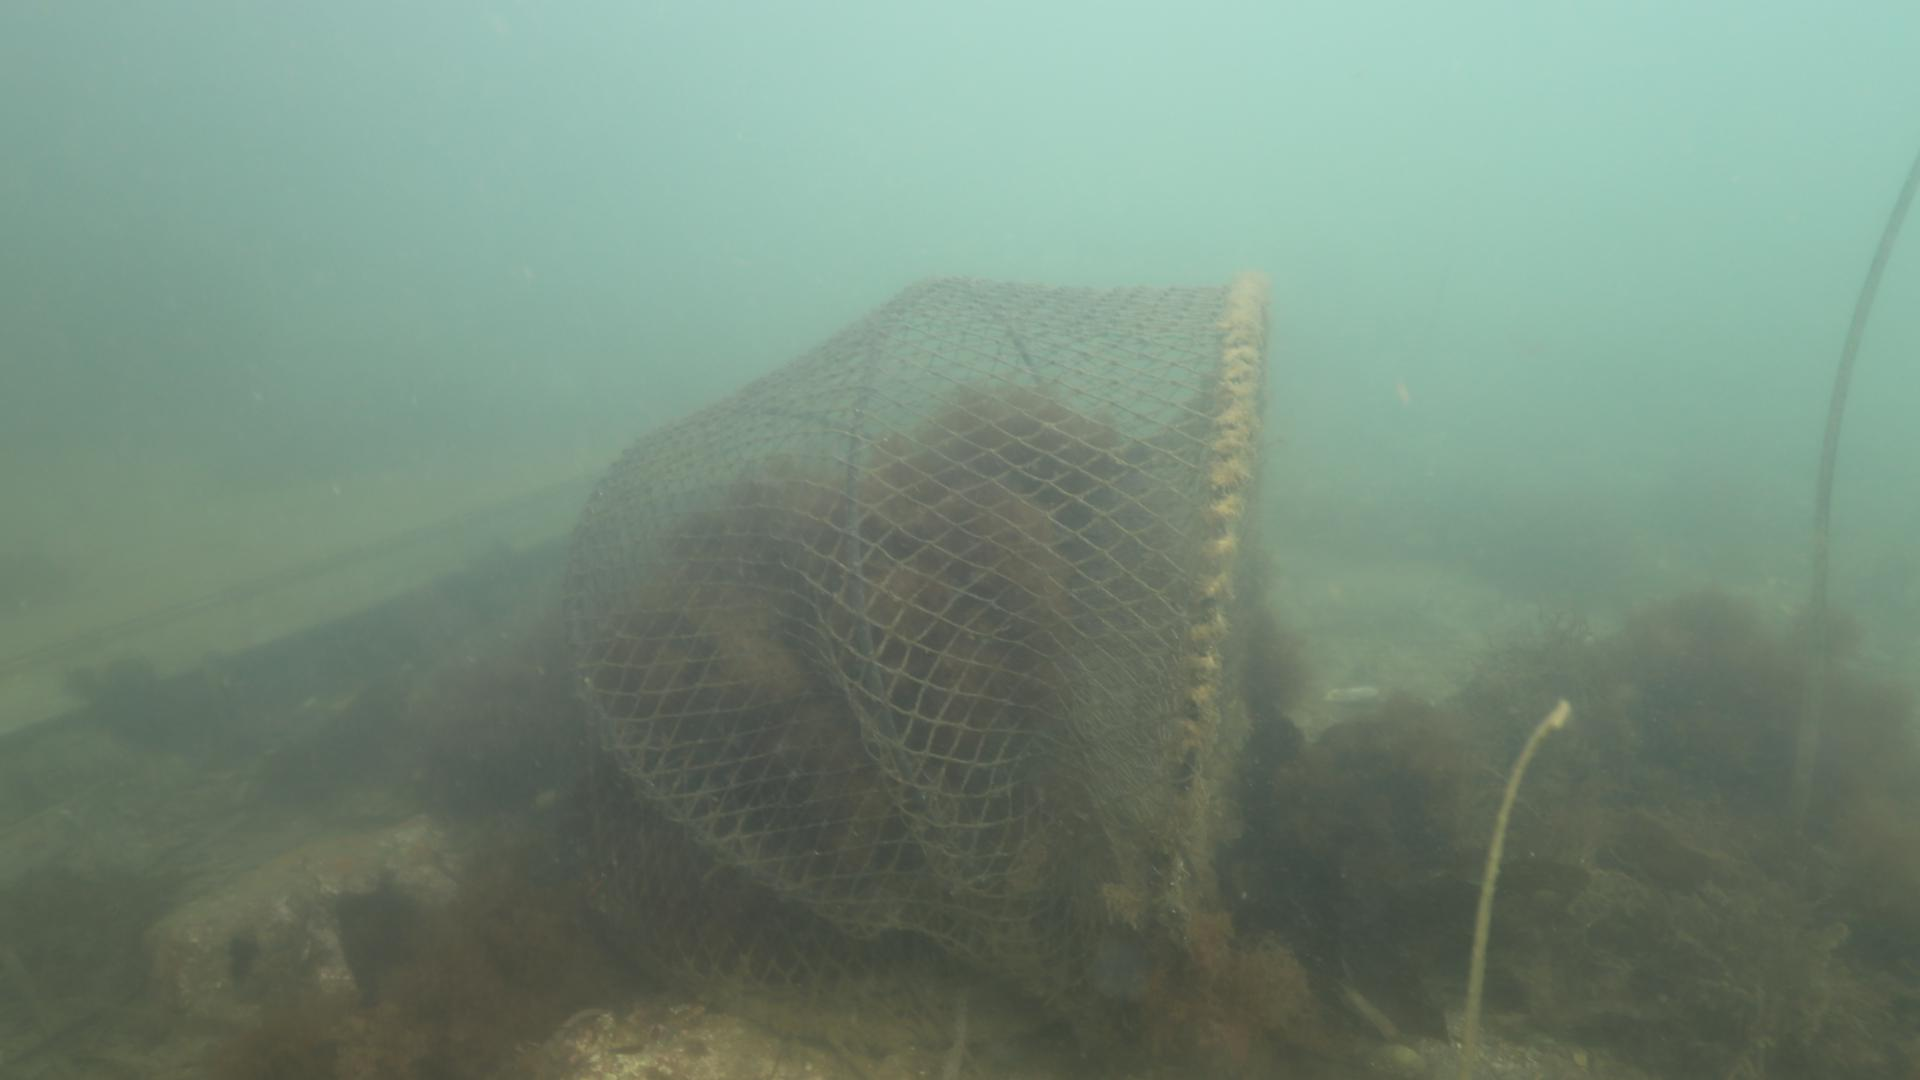spring fish trap: (539, 277, 1262, 1013)
